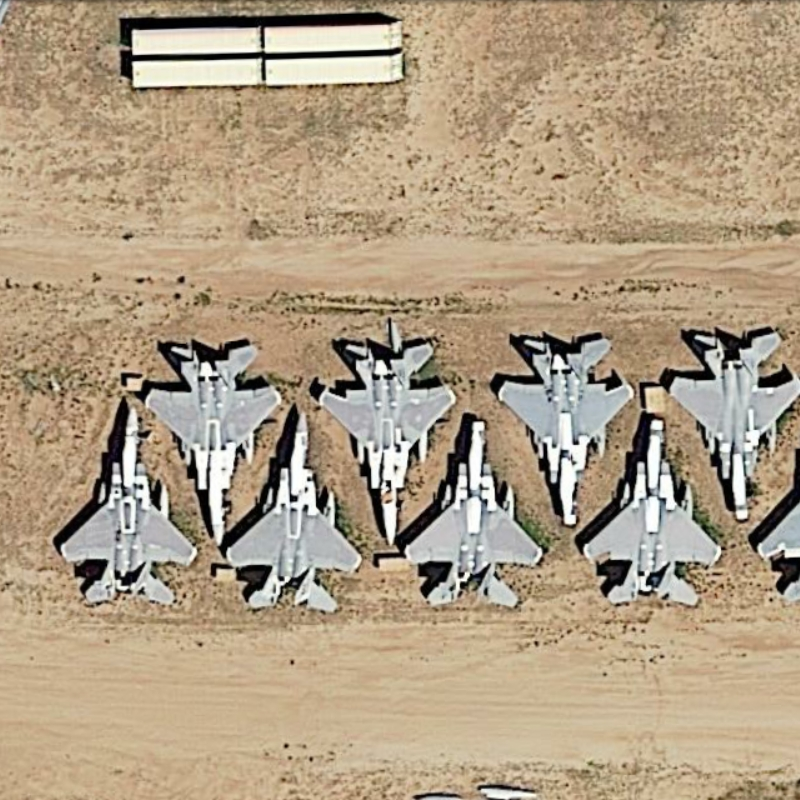A13: (576, 403, 738, 613), (48, 395, 198, 618), (140, 328, 284, 553), (396, 409, 553, 612), (655, 306, 800, 525), (317, 323, 456, 549), (220, 403, 362, 619), (492, 322, 636, 533)
